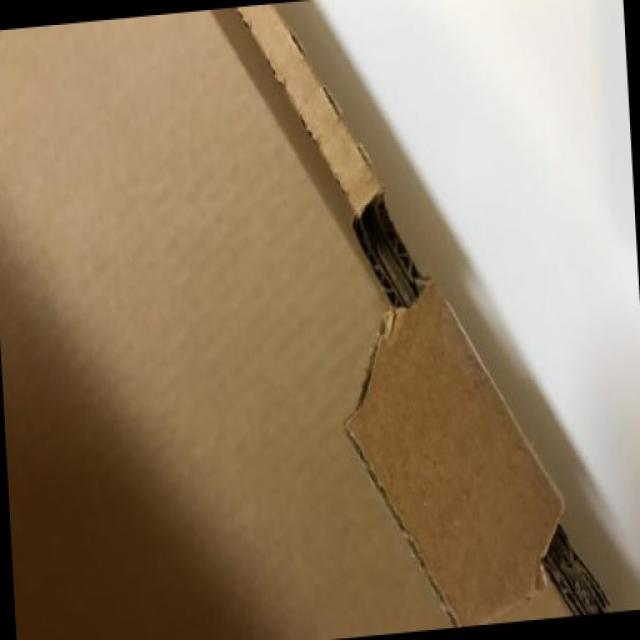carton: (5, 0, 639, 640)
